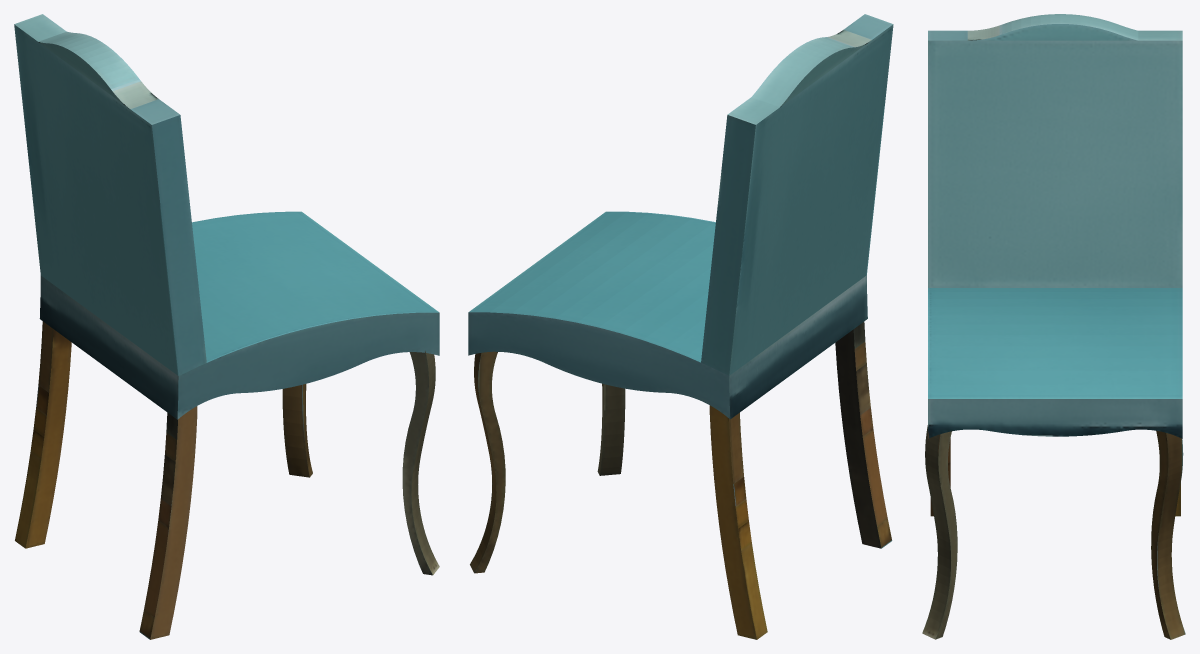
The picture shows the model from 3 angles, left to right: view 1: azimuth 30°, elevation 25°; view 2: azimuth 150°, elevation 25°; view 3: azimuth 270°, elevation 25°; orthographic projection. The views are drawn at different scales.
Visible parts, largest first — view 1: Node; view 2: Node; view 3: Node.
Boxes of the visible parts, left/top/right/bottom form: Node: left=14, top=14, right=439, bottom=639; Node: left=468, top=14, right=893, bottom=639; Node: left=922, top=14, right=1185, bottom=639.
Size of the model in its own units: 0.4021 by 0.7 by 0.3372.
Materials: 1 (1 with a texture image).
